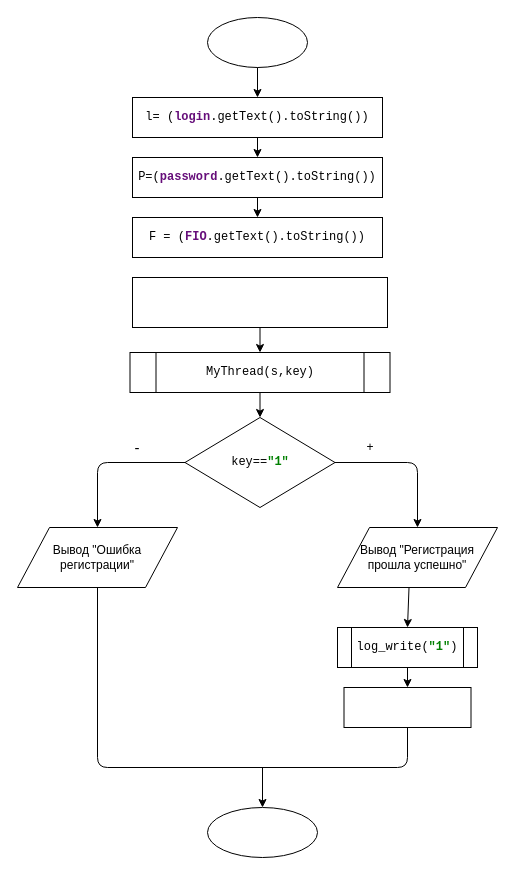
Some shapes in this 515 by 875 pixel diagram are drawn without their labels. Here are the shapes that lost their labels. From the top down, the centre of each, then its label:
point (257, 42): registred
point (260, 302): s= l конкатенация "#" конкатенация P конкатенация "#" конкатенация F
point (407, 707): открытие приложения
point (262, 832): выход
